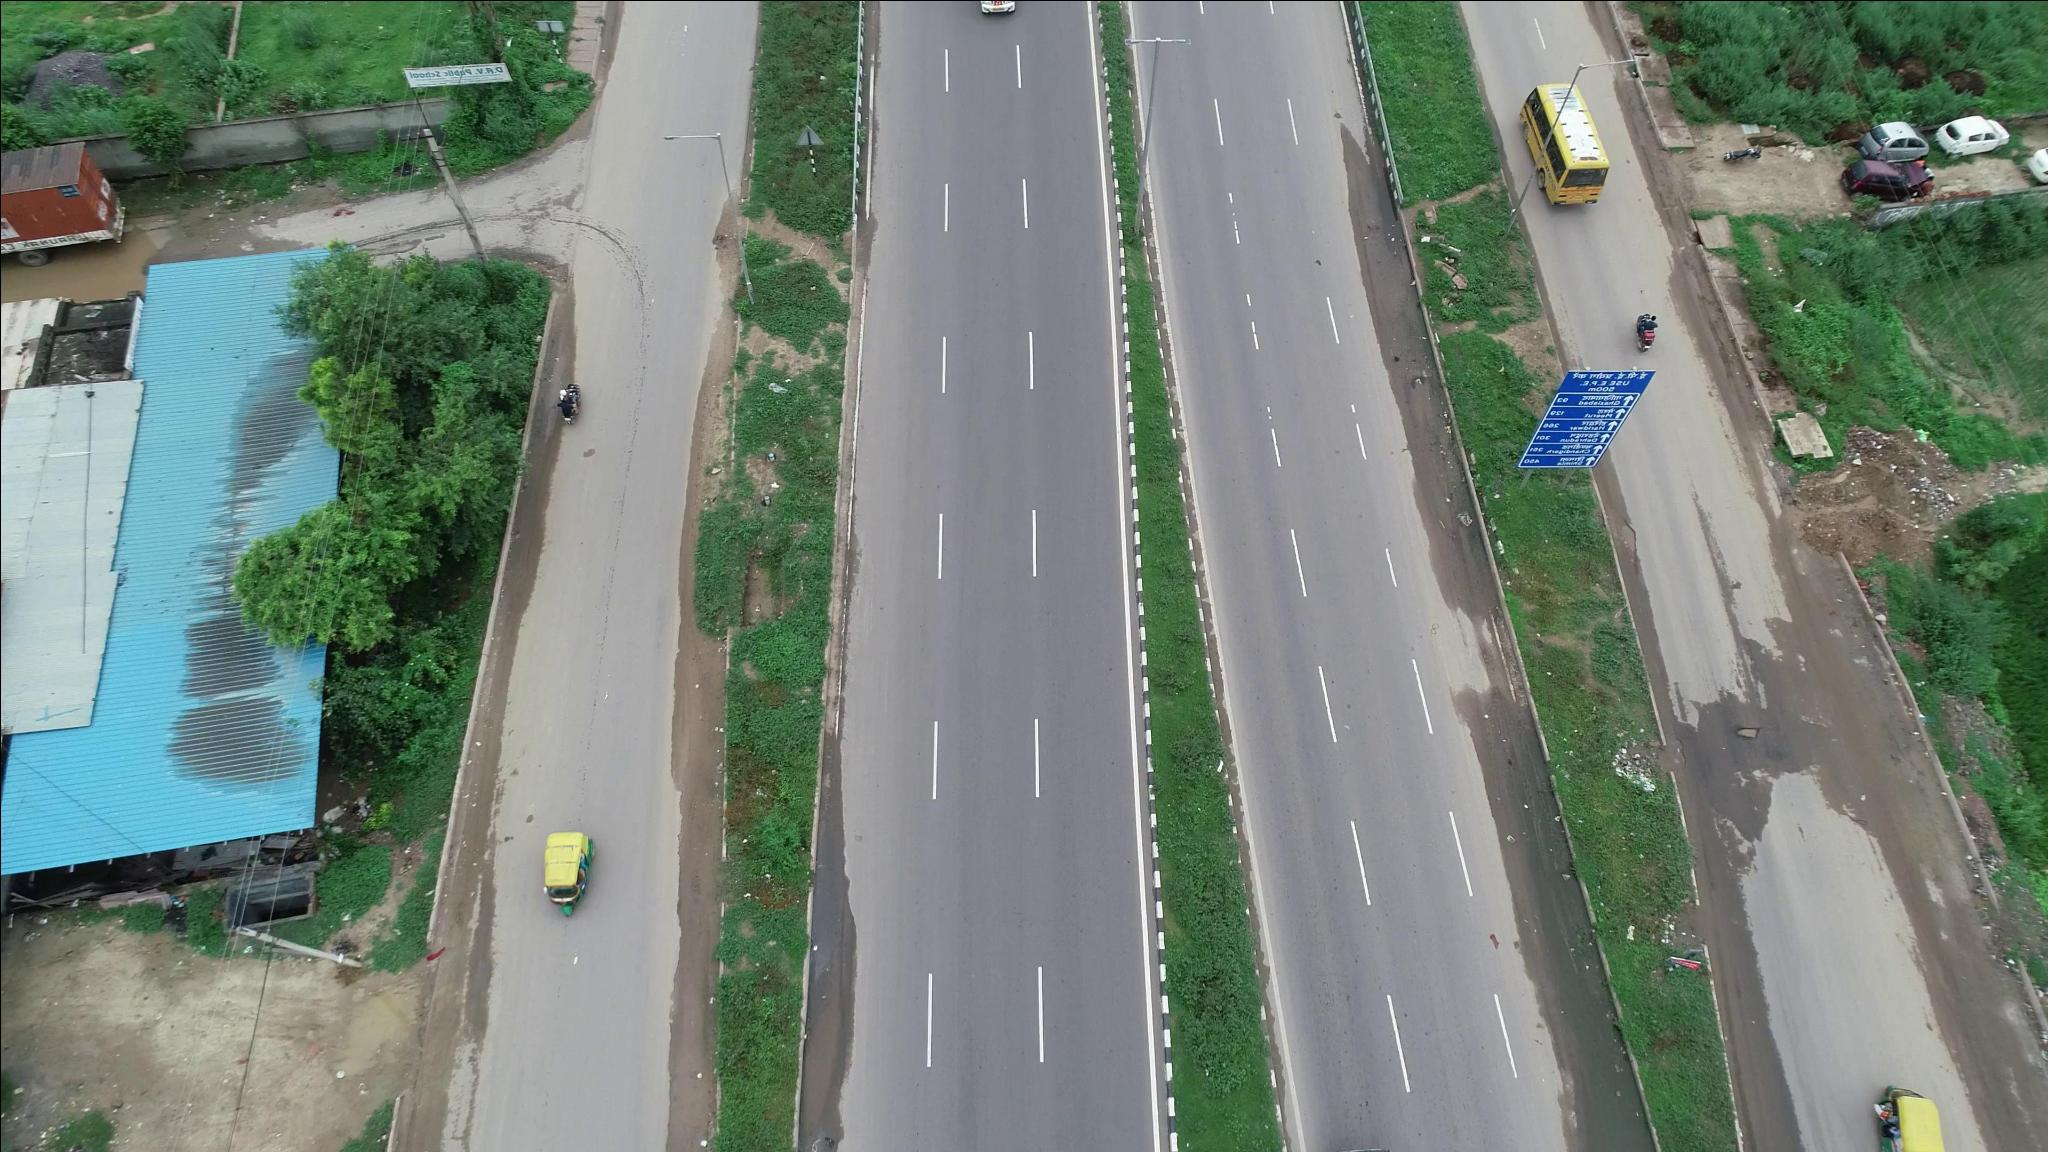Muddy_road: (1537, 942, 1657, 1148), (1501, 738, 1587, 933)
Potholes: (1703, 703, 1789, 778)
